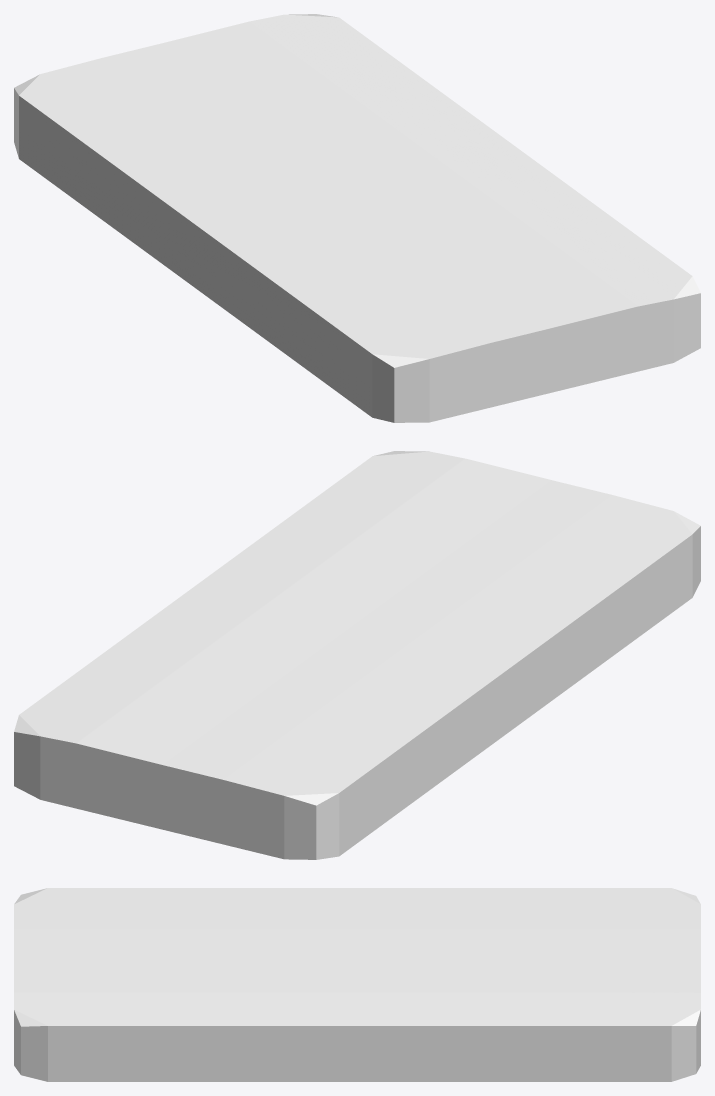
File: bedmattress01.obj
The picture shows the model from 3 angles, top to bottom: view 1: azimuth 30°, elevation 25°; view 2: azimuth 150°, elevation 25°; view 3: azimuth 270°, elevation 25°; orthographic projection. The views are drawn at different scales.
Visible parts, largest first — view 1: Cube_Cube.002; view 2: Cube_Cube.002; view 3: Cube_Cube.002.
Part boxes in pixels (x1=…): Cube_Cube.002: x1=14, y1=14, x2=700, y2=422; Cube_Cube.002: x1=14, y1=451, x2=700, y2=859; Cube_Cube.002: x1=14, y1=888, x2=700, y2=1081.
Bounding box in the file's own units: 0.95 × 0.1847 × 2.
